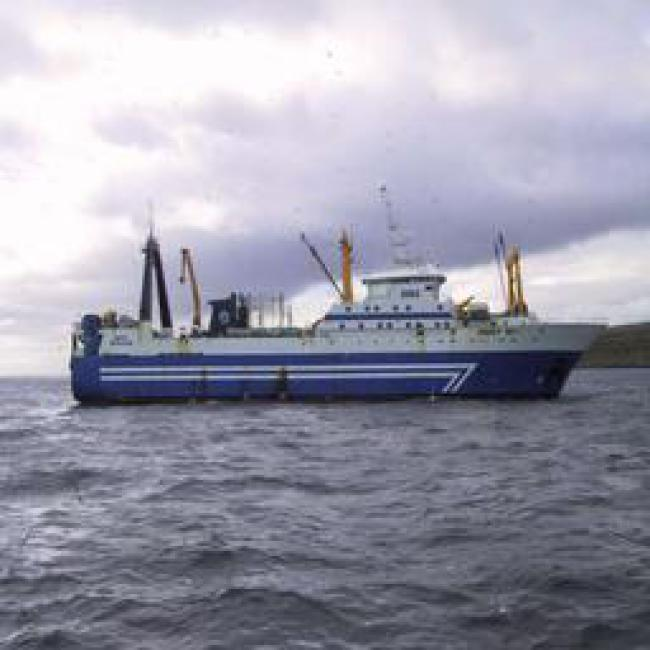Ship: (43, 279, 619, 405)
